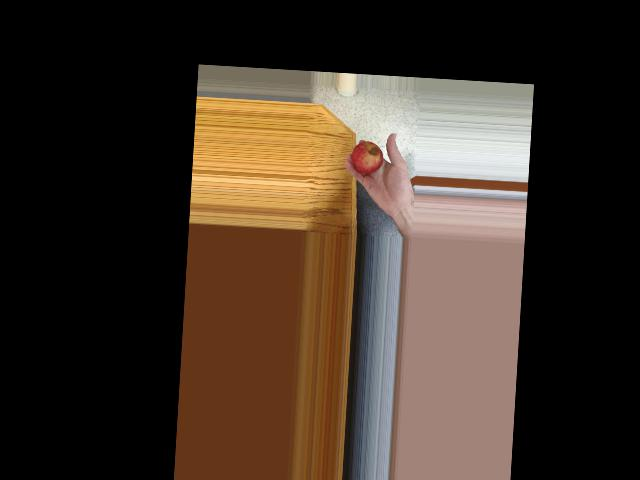apple: (350, 140, 386, 177)
